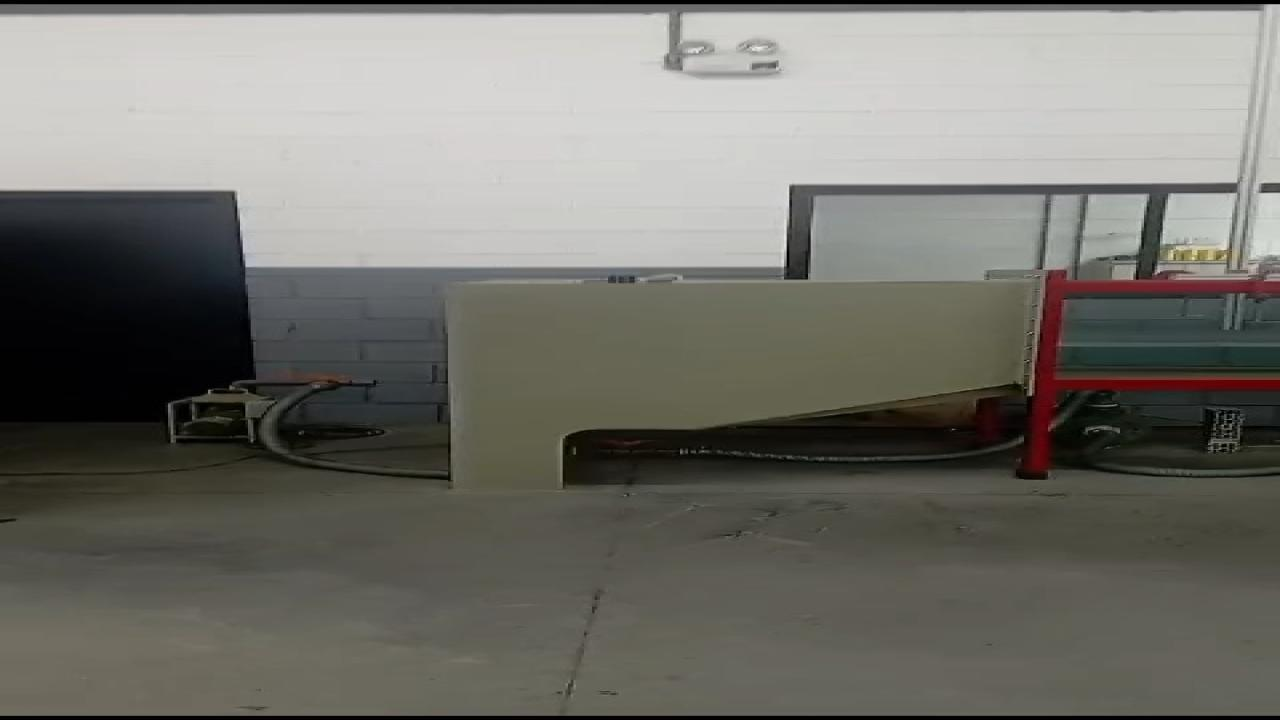Cube: (607, 276, 637, 284)
